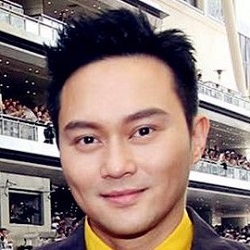unmask: (56, 89, 193, 233)
